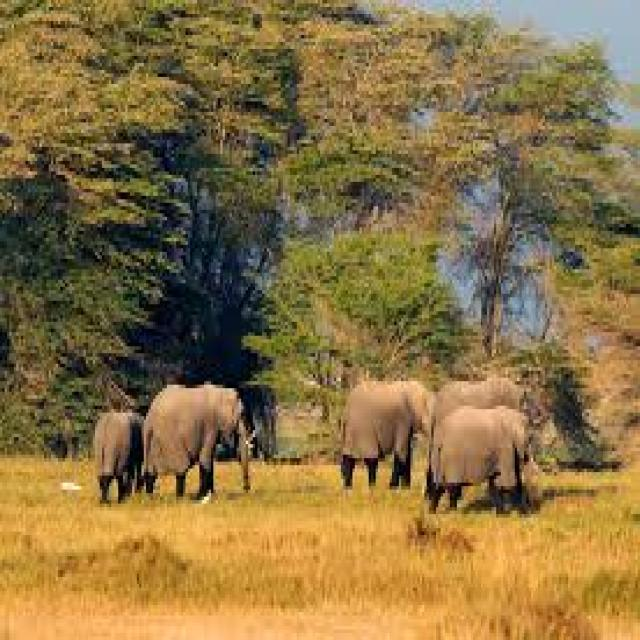Elephant: (142, 381, 250, 504), (424, 402, 540, 514), (338, 378, 434, 490), (93, 409, 144, 504)
